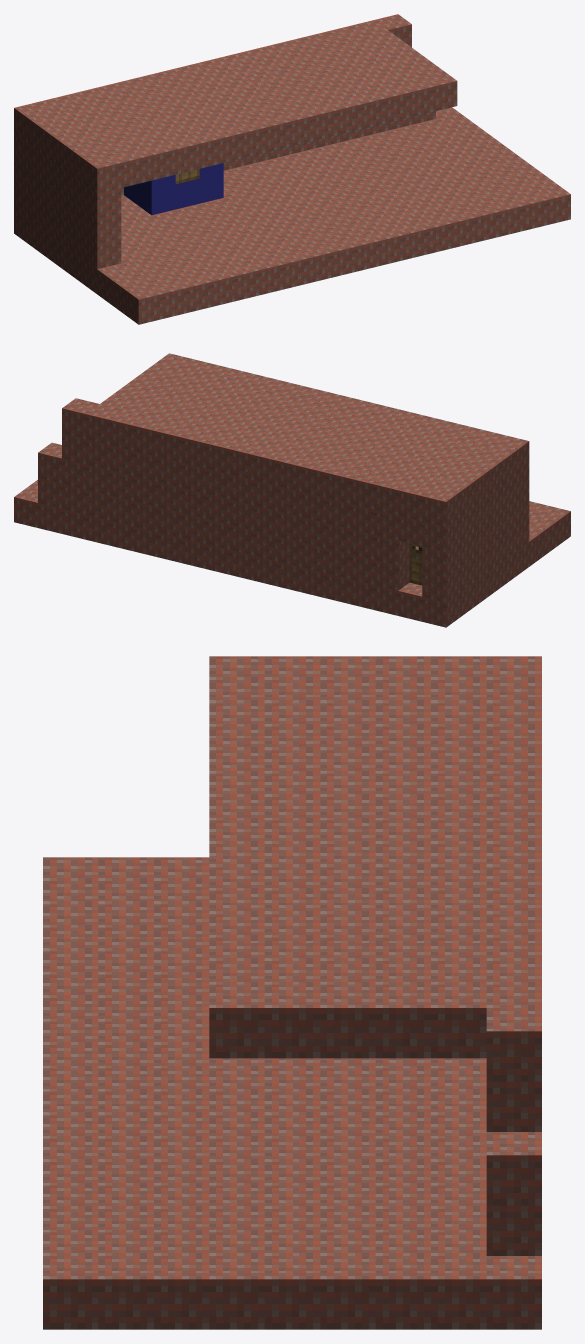
File: Maquete_Antonella Buscardi Perez.glb
The picture shows the model from 3 angles, top to bottom: view 1: azimuth 30°, elevation 25°; view 2: azimuth 150°, elevation 25°; view 3: azimuth 270°, elevation 25°; orthographic projection. The views are drawn at different scales.
Parts seen in each view (by area): view 1: node_4, node_1; view 2: node_4, node_1, node_2; view 3: node_4, node_1.
Part boxes in pixels (x1,y1,x2,y2): node_4: (14, 14, 522, 324); node_1: (412, 107, 570, 230); node_4: (62, 353, 570, 627); node_1: (14, 442, 61, 533); node_2: (409, 543, 422, 585); node_4: (43, 656, 541, 1232); node_1: (43, 1132, 541, 1329).
Bounding box in the file's own units: 18 × 5 × 9.
2 materials, 2 textured.
